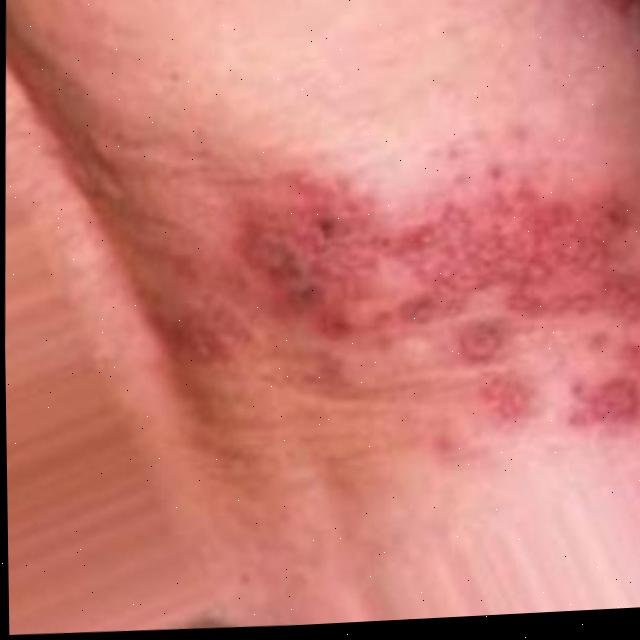Shingles: (126, 130, 640, 446)
